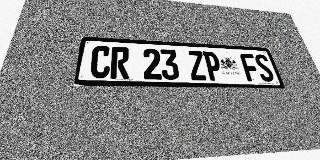2: (143, 48, 162, 80)
3: (160, 49, 180, 80)
C: (89, 45, 111, 79)
F: (239, 53, 262, 81)
P: (202, 51, 224, 81)
R: (110, 46, 129, 79)
S: (253, 54, 276, 82)
Z: (187, 50, 208, 80)
